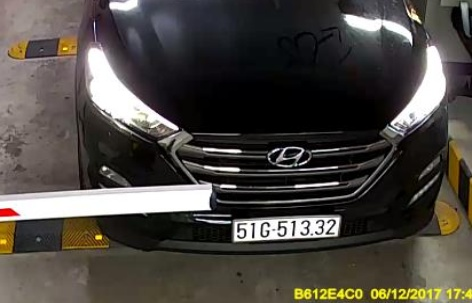plate: (231, 212, 339, 248)
